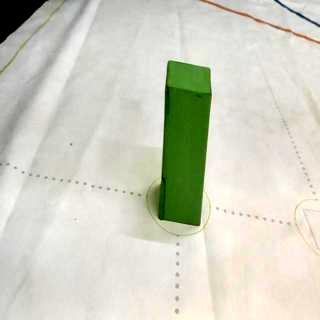greenbox: (160, 60, 212, 227)
